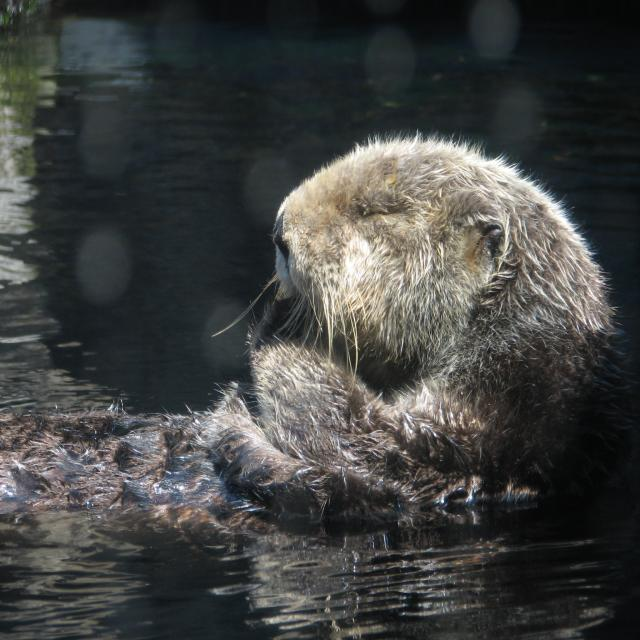otter: (206, 139, 611, 516)
